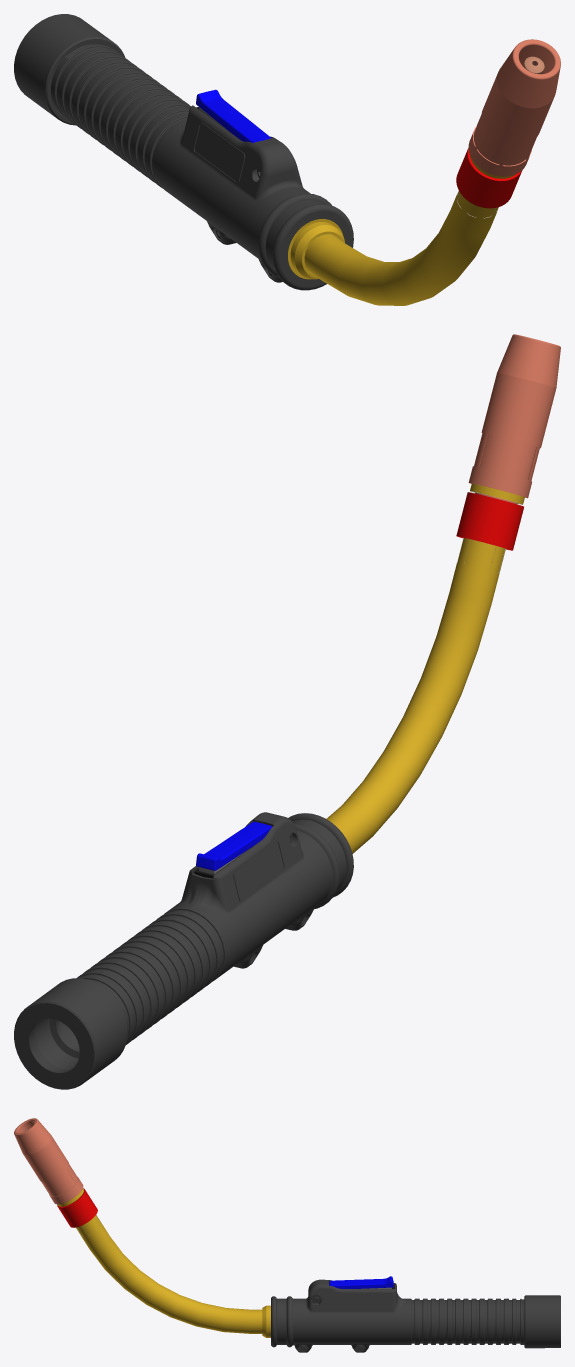
Rendered from torc.fbx.
3 views of the same model, one above another, from view 1: azimuth 30°, elevation 25°; view 2: azimuth 150°, elevation 25°; view 3: azimuth 270°, elevation 25° (orthographic). The views are drawn at different scales.
Parts seen in each view (by area): view 1: object 6, object 10, Al_nm__1, Al_nm__5, Al_nm__3; view 2: object 6, object 10, Al_nm__1, Al_nm__5, Al_nm__3; view 3: object 6, object 10, Al_nm__1, Al_nm__5, Al_nm__3.
Part boxes in pixels (x1,y1,x2,y2): object 6: [14, 14, 353, 290]; object 10: [288, 190, 498, 305]; Al_nm__1: [468, 39, 560, 176]; Al_nm__5: [456, 56, 544, 208]; Al_nm__3: [196, 89, 271, 142]; object 6: [14, 812, 353, 1089]; object 10: [326, 537, 505, 853]; Al_nm__1: [468, 334, 560, 504]; Al_nm__5: [456, 492, 523, 550]; Al_nm__3: [196, 821, 271, 870]; object 6: [271, 1279, 560, 1352]; object 10: [76, 1215, 270, 1337]; Al_nm__1: [14, 1118, 83, 1204]; Al_nm__5: [25, 1127, 97, 1227]; Al_nm__3: [329, 1276, 393, 1288].
Size of the model in its own units: 41.24 by 428 by 197.
